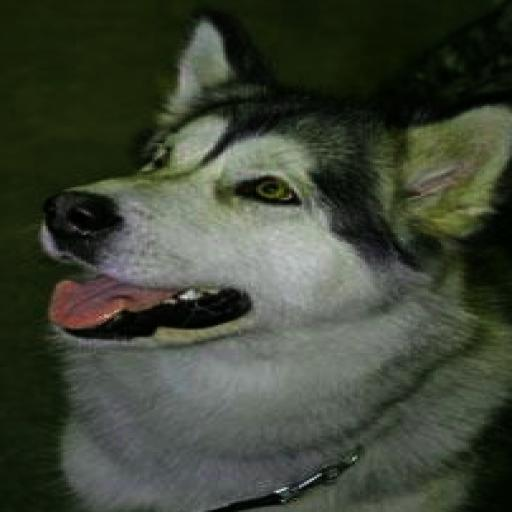dog_face: (43, 26, 492, 348)
